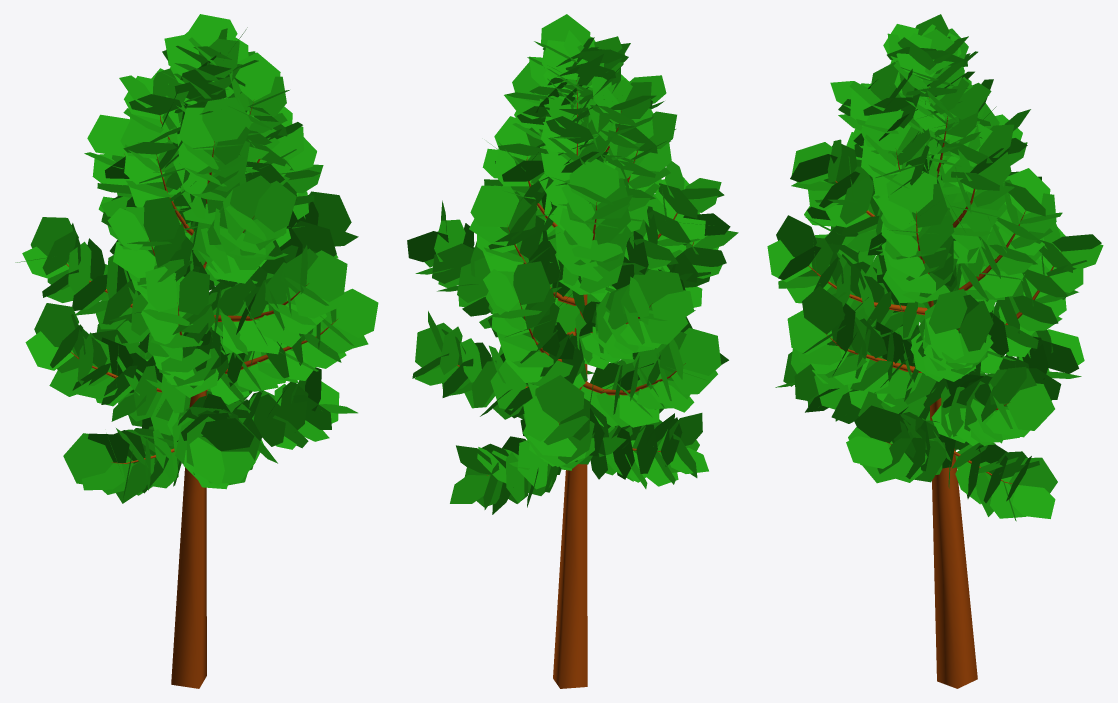
File: arbre.obj
3 renders of one model, left to right at view 1: azimuth 30°, elevation 25°; view 2: azimuth 150°, elevation 25°; view 3: azimuth 270°, elevation 25°, orthographic. The views are drawn at different scales.
Parts seen in each view (by area): view 1: leaves, tree; view 2: leaves, tree; view 3: leaves, tree.
Part boxes in pixels (box(x1,y1,x2,y2)): leaves: box(15, 14, 378, 503); tree: box(66, 100, 337, 688); leaves: box(407, 14, 738, 514); tree: box(457, 80, 693, 688); leaves: box(767, 14, 1103, 521); tree: box(809, 87, 1061, 688).
Size of the model in its own units: 1.18 by 2.44 by 1.13.
